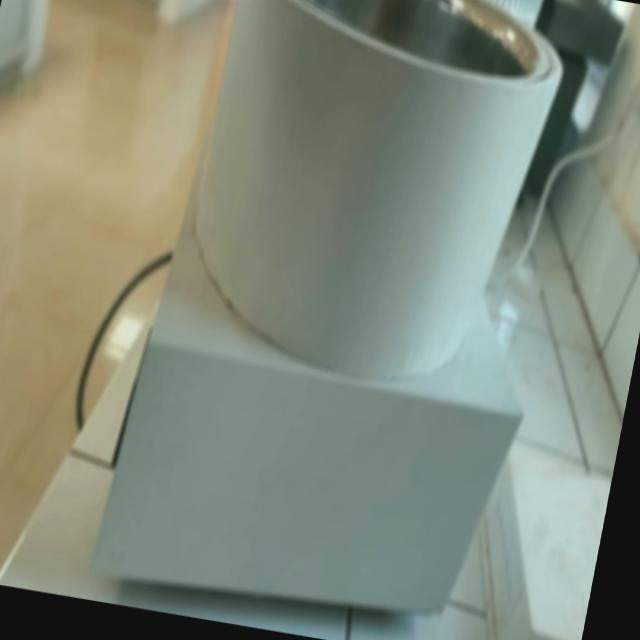Water-Oil Bath: (110, 0, 590, 640)
